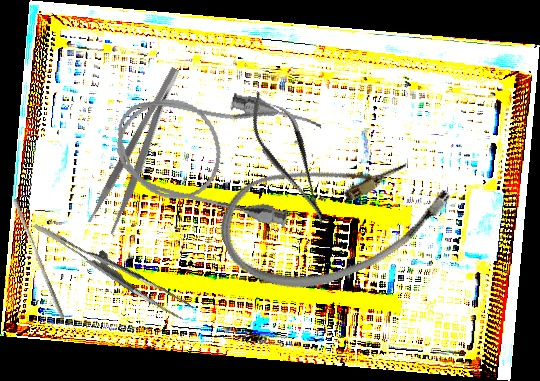Cannula: (206, 115, 464, 314), (104, 70, 325, 231)
Dressing Forceps: (85, 64, 197, 236)
Micro Scissor: (236, 81, 343, 235)
Pusher: (8, 198, 70, 319)
Tissue Forceps: (33, 199, 194, 335)
